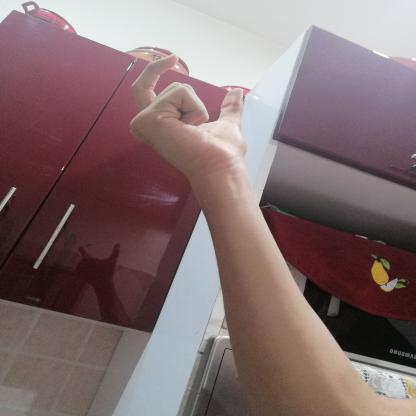NOON: (112, 44, 262, 185)
